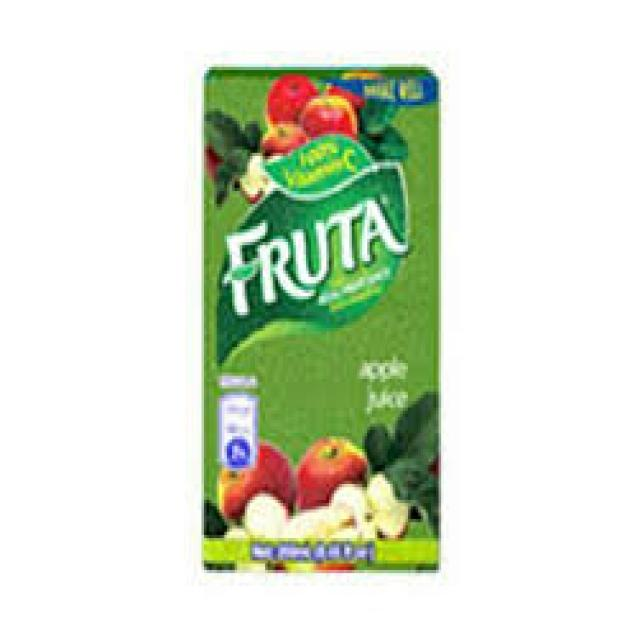non_white_jug: (181, 31, 468, 592)
